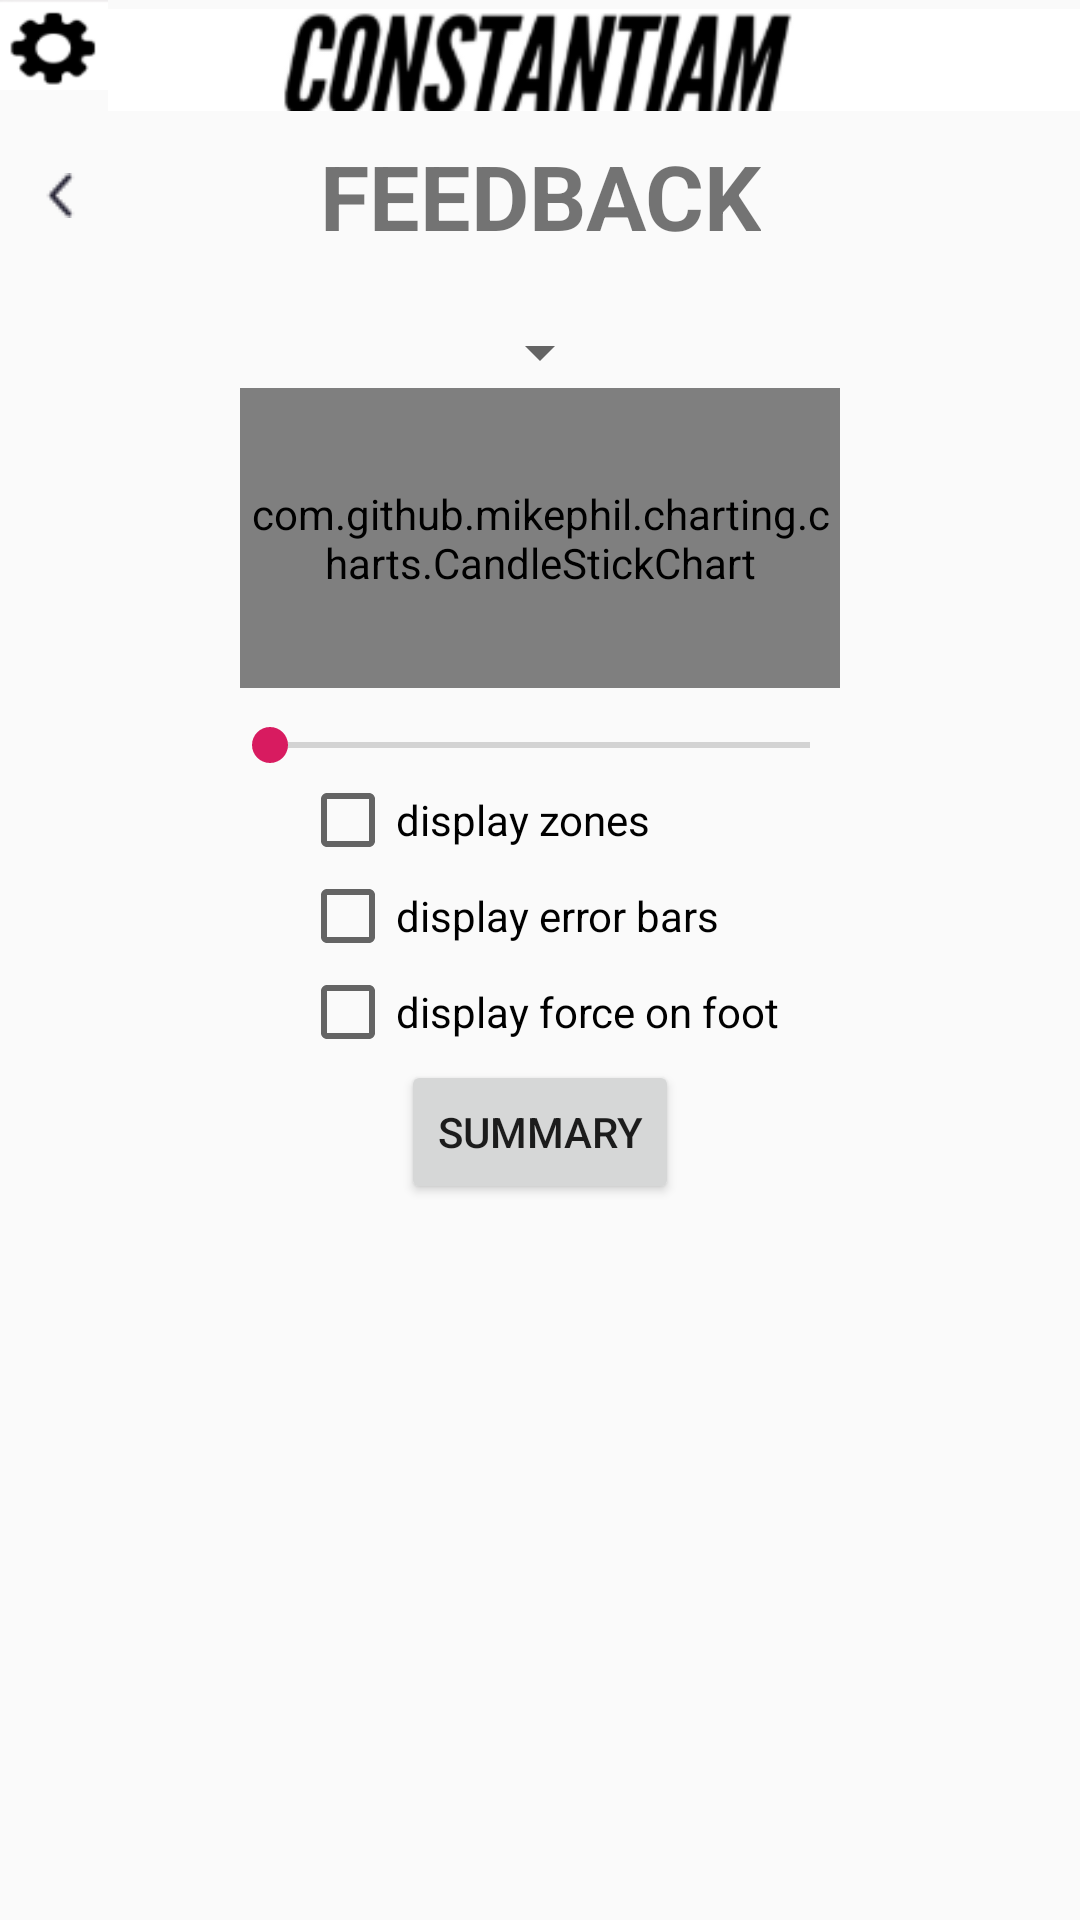

Icons on this 1080px x 1920px Android screen, each with the point to tap as (x,y):
back: (59,195)
settings: (53,48)
